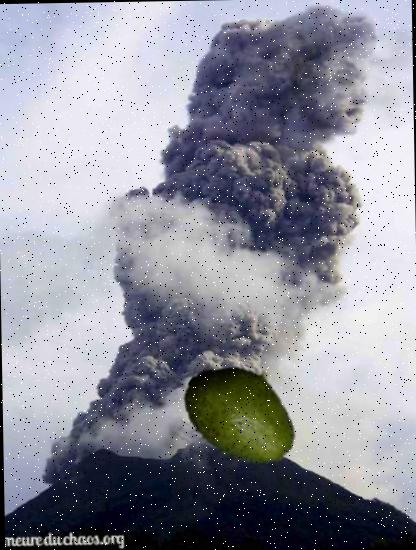Avocado: (181, 348, 306, 474)
